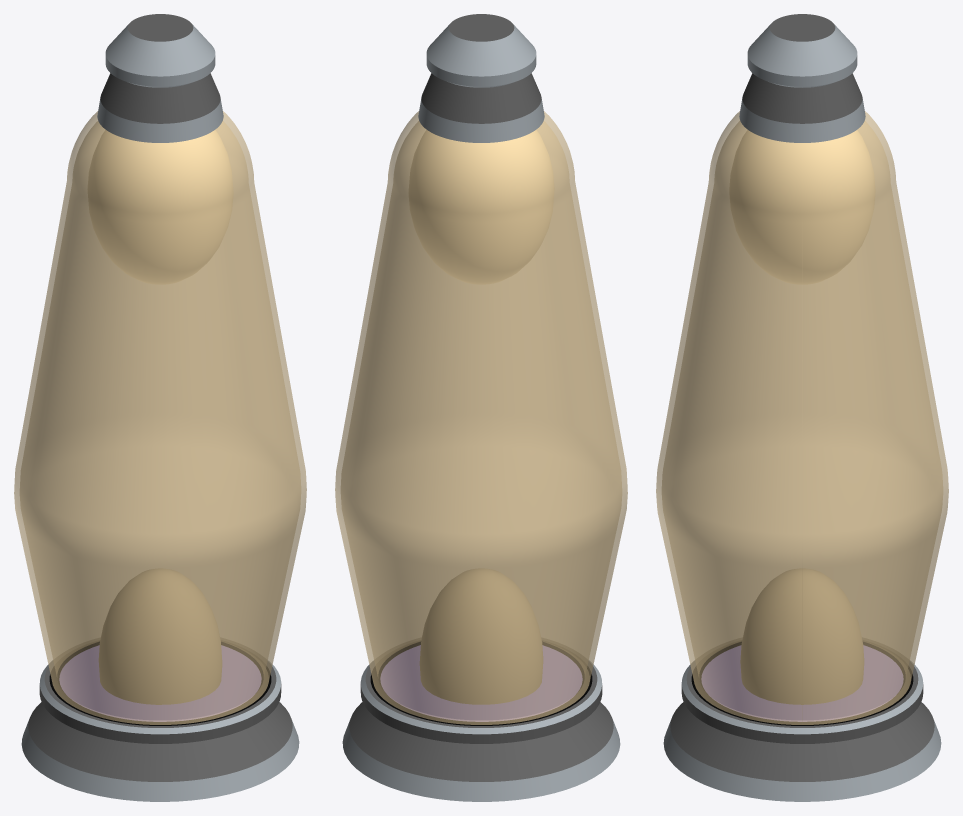
File: Lavalamp4.fbx
3 views of the same model, side by side, from view 1: azimuth 30°, elevation 25°; view 2: azimuth 150°, elevation 25°; view 3: azimuth 270°, elevation 25° (orthographic).
Parts seen in each view (by area): view 1: _glass4, __base, lava_top, lava_bottom, __top; view 2: _glass4, __base, lava_top, lava_bottom, __top; view 3: _glass4, __base, lava_top, lava_bottom, __top.
Boxes of the visible parts, x1=… form: _glass4: x1=14, y1=111, x2=306, y2=724; __base: x1=21, y1=641, x2=299, y2=801; lava_top: x1=87, y1=130, x2=233, y2=284; lava_bottom: x1=99, y1=568, x2=221, y2=704; __top: x1=97, y1=14, x2=223, y2=142; _glass4: x1=335, y1=111, x2=627, y2=724; __base: x1=342, y1=641, x2=620, y2=801; lava_top: x1=409, y1=130, x2=554, y2=284; lava_bottom: x1=420, y1=568, x2=542, y2=704; __top: x1=418, y1=14, x2=544, y2=142; _glass4: x1=656, y1=111, x2=948, y2=724; __base: x1=663, y1=641, x2=941, y2=801; lava_top: x1=729, y1=130, x2=875, y2=284; lava_bottom: x1=740, y1=568, x2=863, y2=704; __top: x1=739, y1=14, x2=865, y2=142.
Size of the model in its own units: 0.887 by 2.42 by 0.887.
